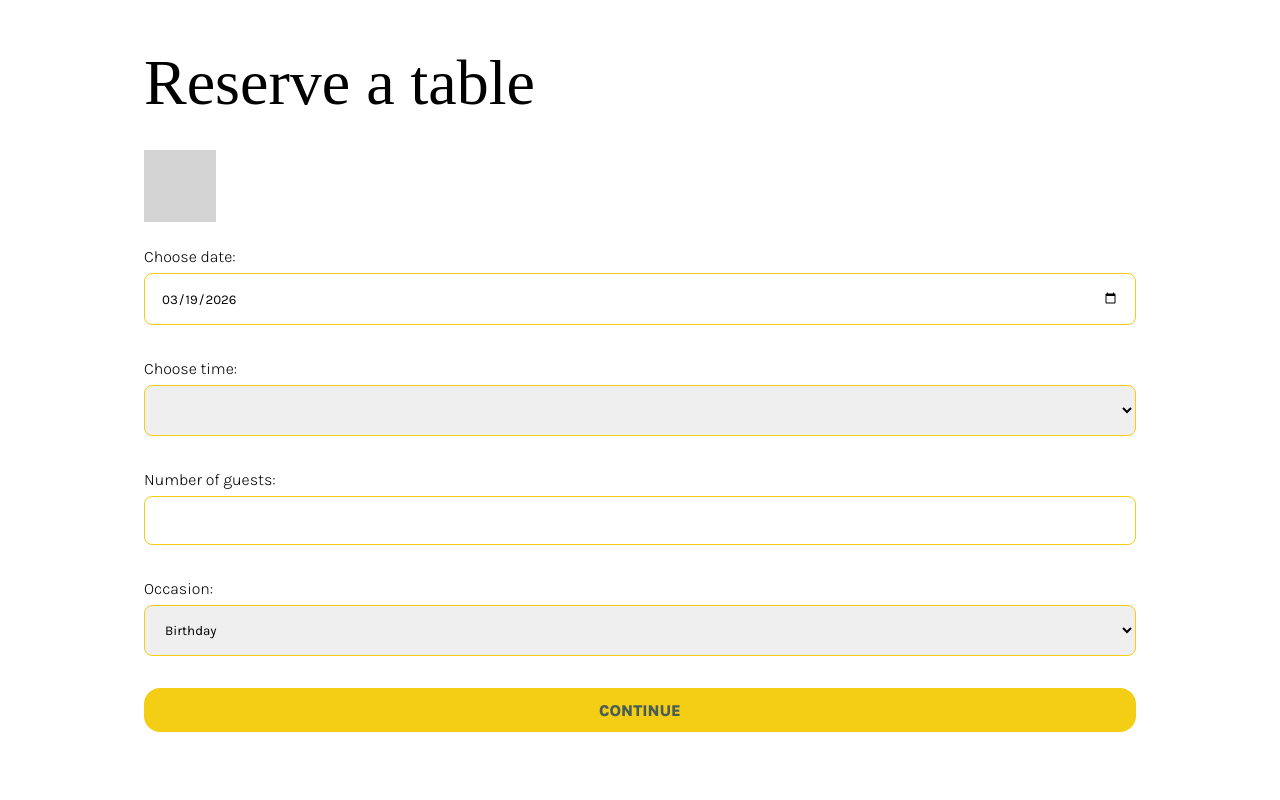
Test: BookingPage › Booking form errors › should validate the number of guests field
The width and height of the screenshot is (1280, 800).
Type "0" into the number field labelled "Number of guests:".
click(640, 520); type("0")  # box [144,496,1136,545]
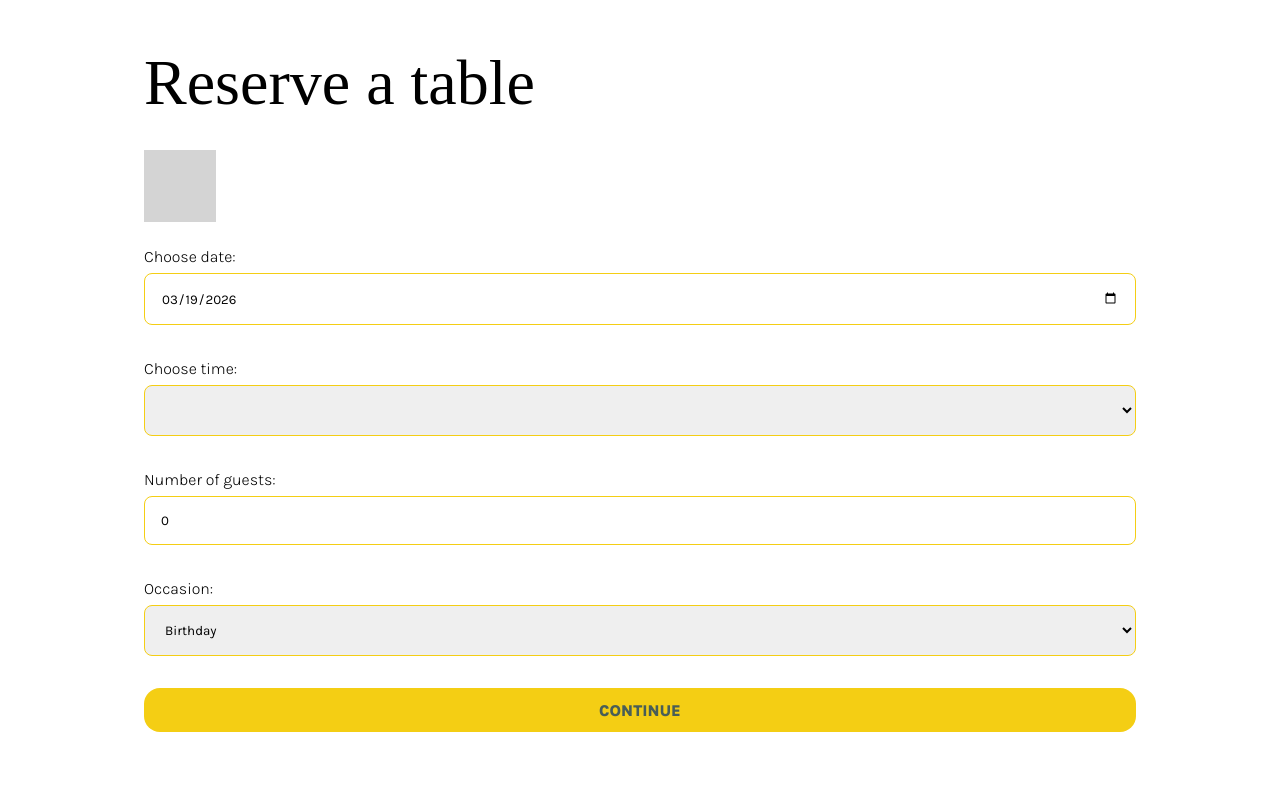
Leave the number field labelled "Number of guests:", box [144,496,1136,545]
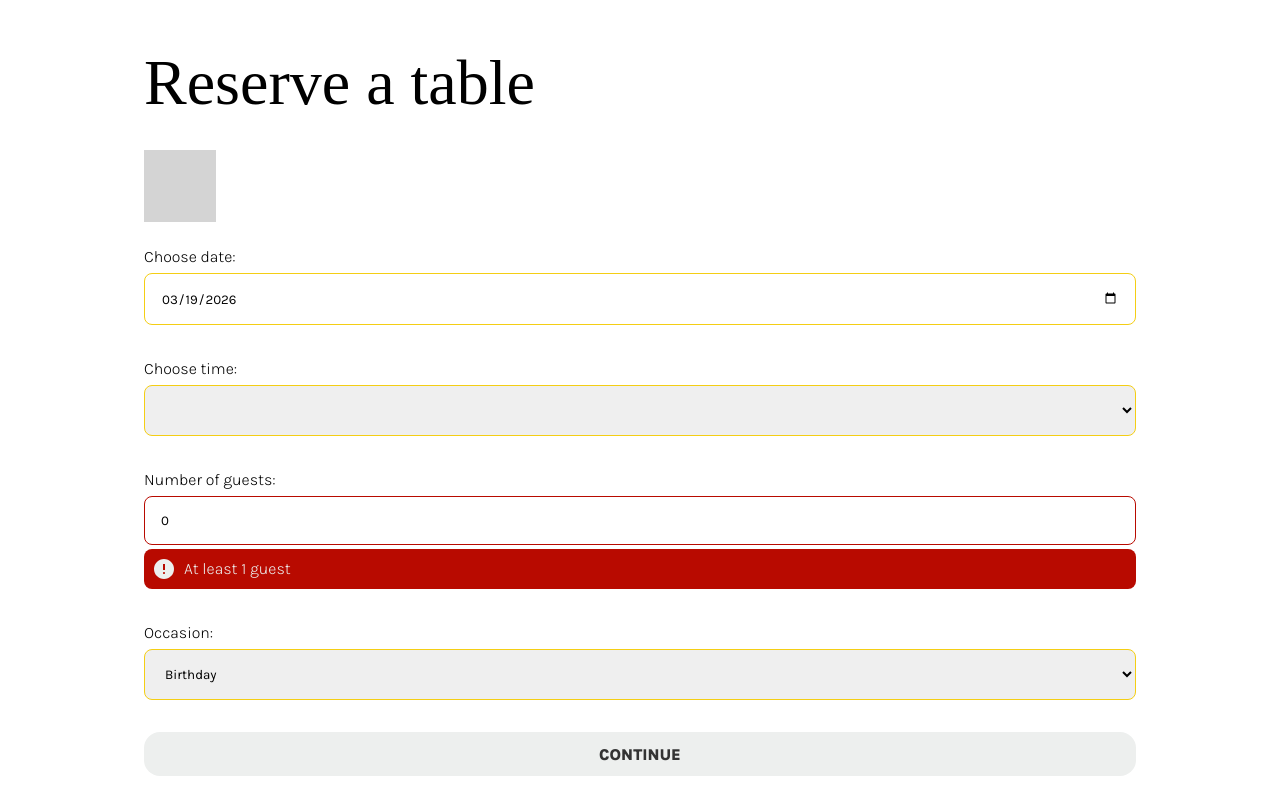
Check: the text "At least 1 guest" is shown, box [184,557,291,581]
Replace the text in the number field labelled "Number of guests:" with "11" at (640, 520), box [144,496,1136,545]
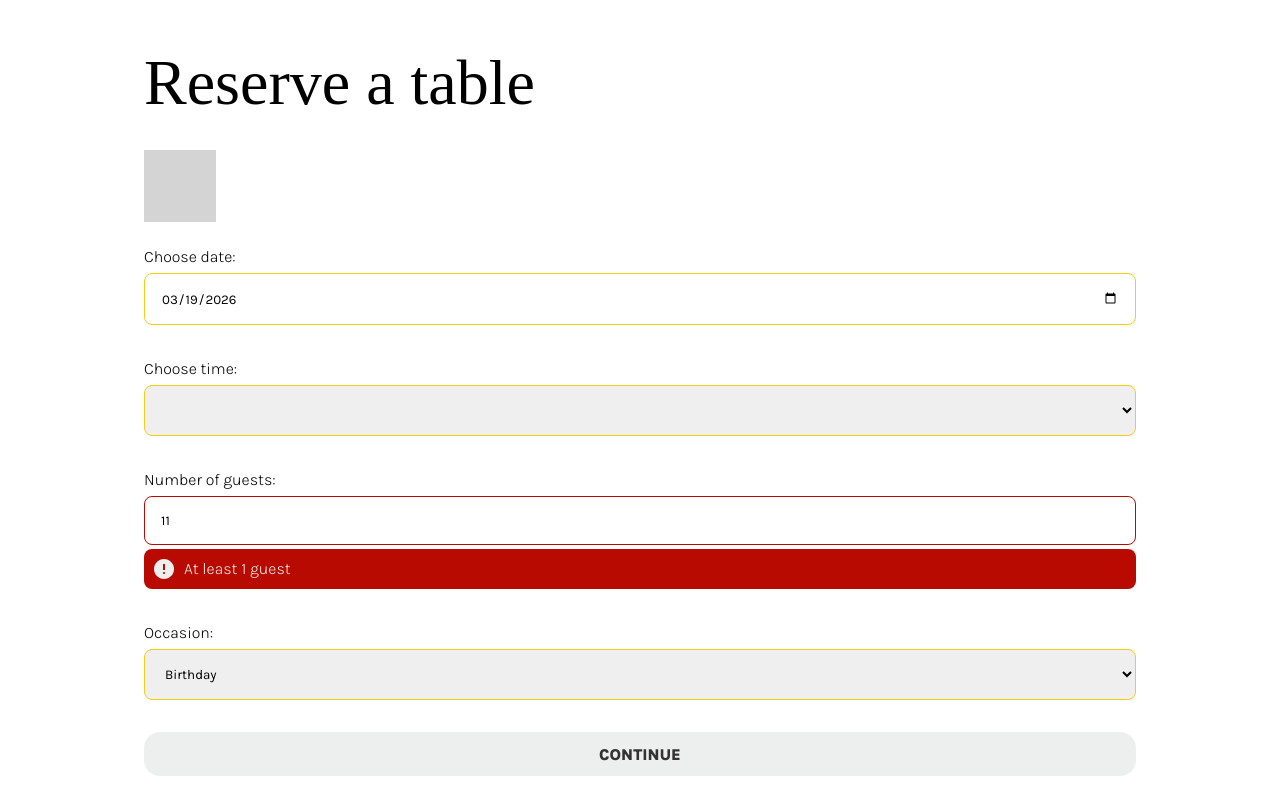
Leave the number field labelled "Number of guests:", box [144,496,1136,545]
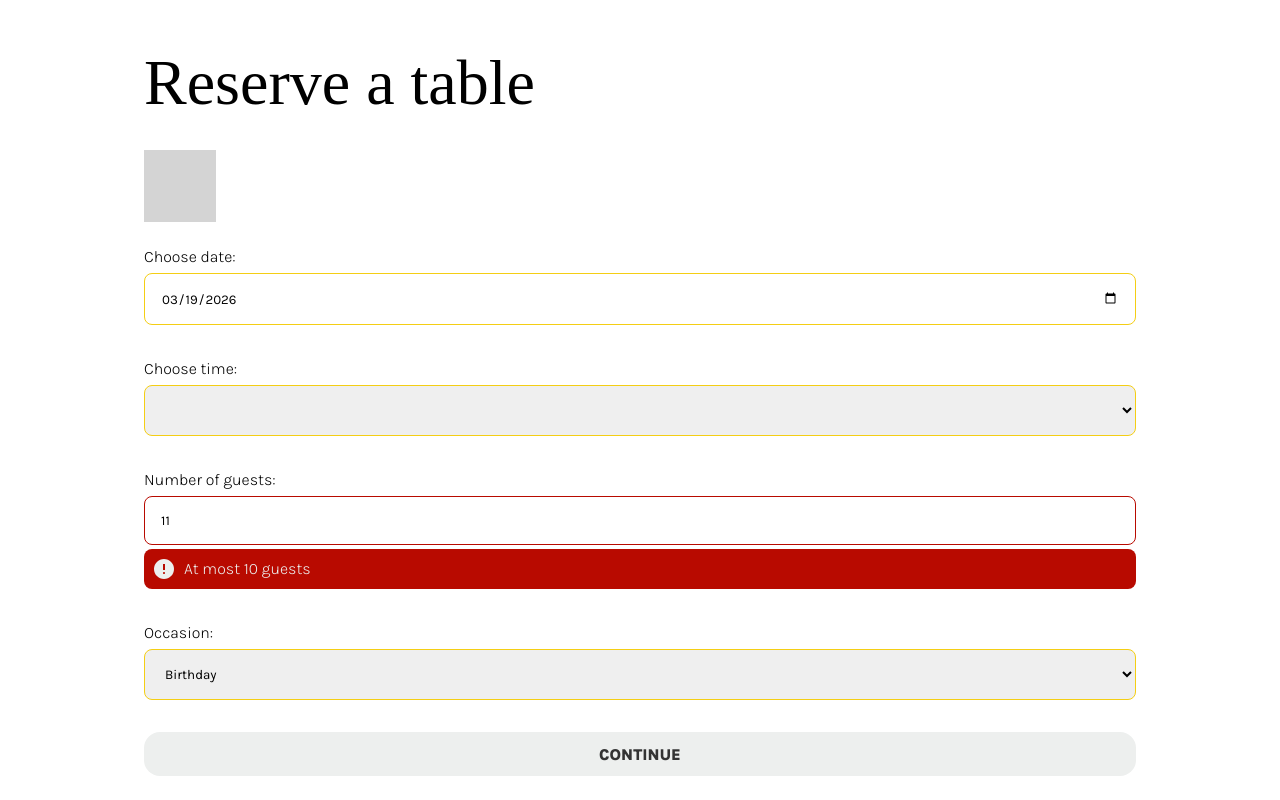
Check: the text "At most 10 guests" is shown, box [184,557,311,581]
Clear the number field labelled "Number of guests:" at (640, 520), box [144,496,1136,545]
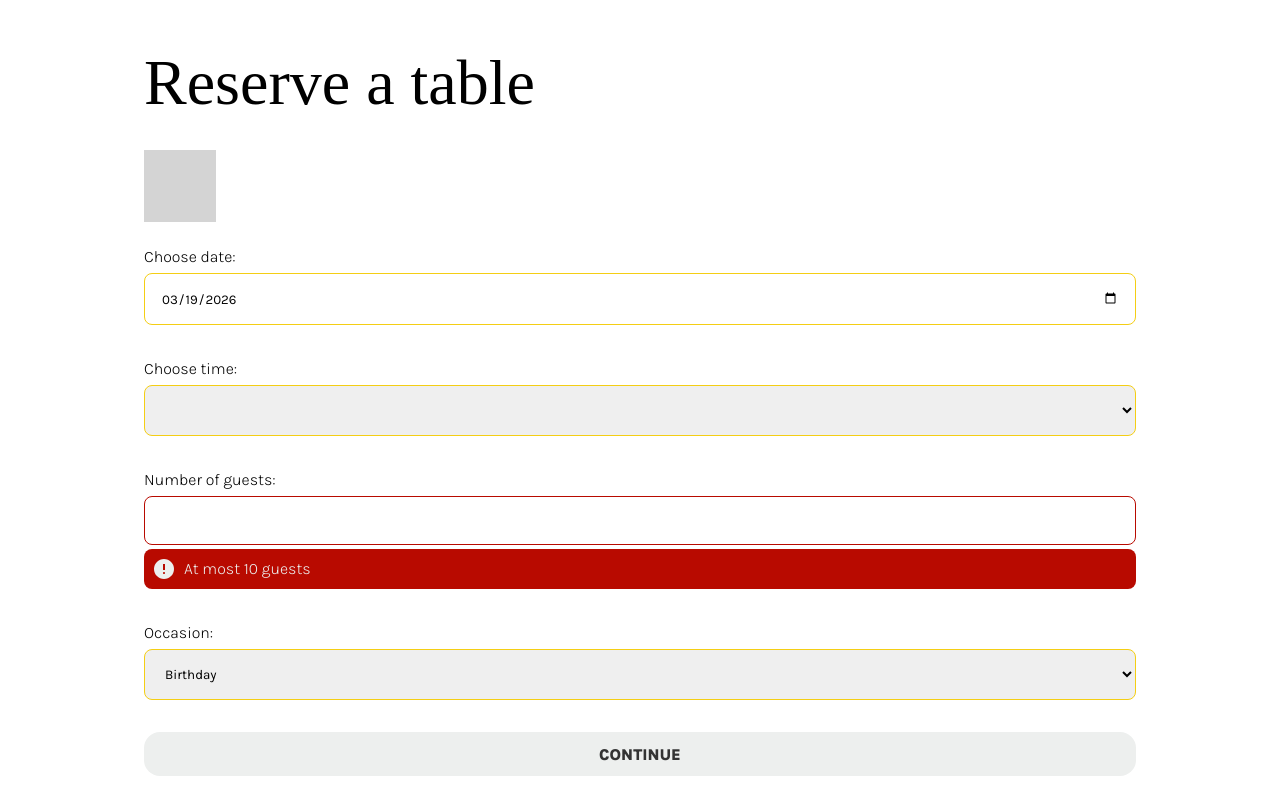
Leave the number field labelled "Number of guests:", box [144,496,1136,545]
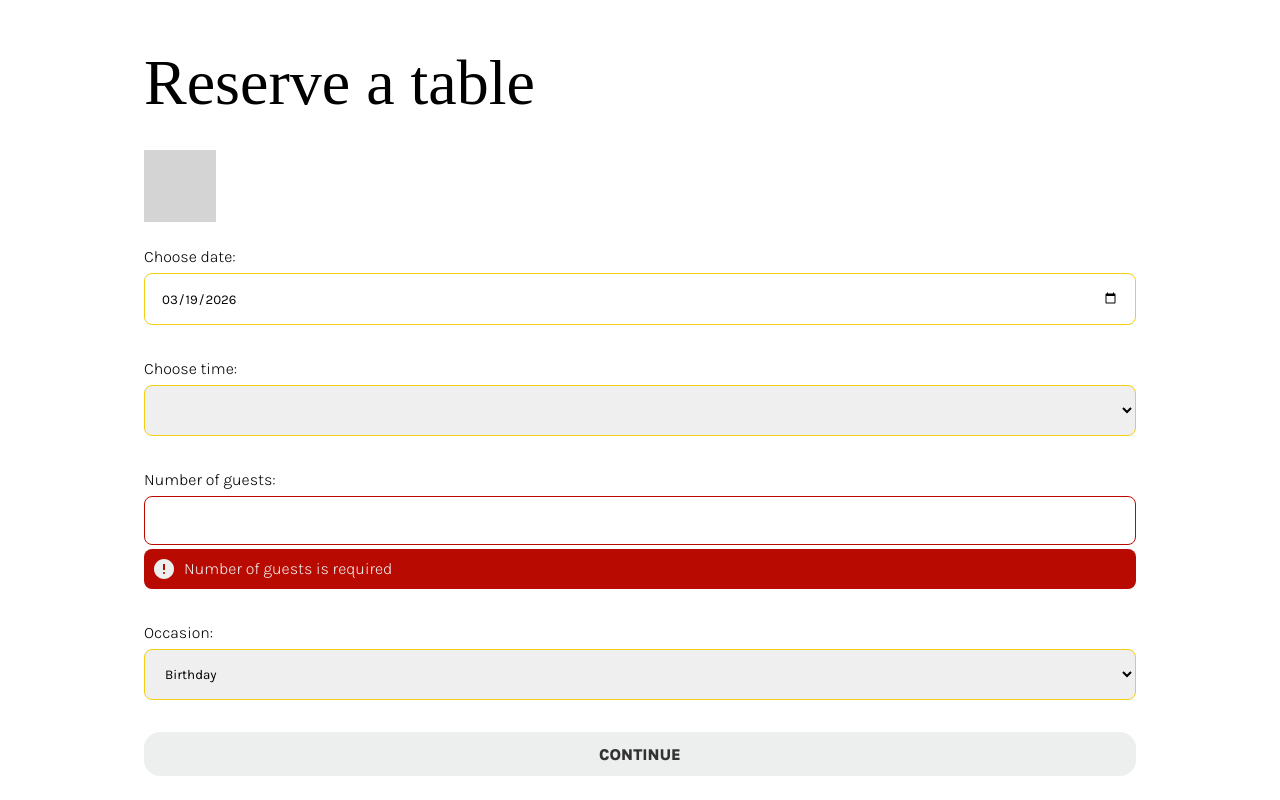
Check: the text "Number of guests is required" is shown, box [184,557,392,581]
